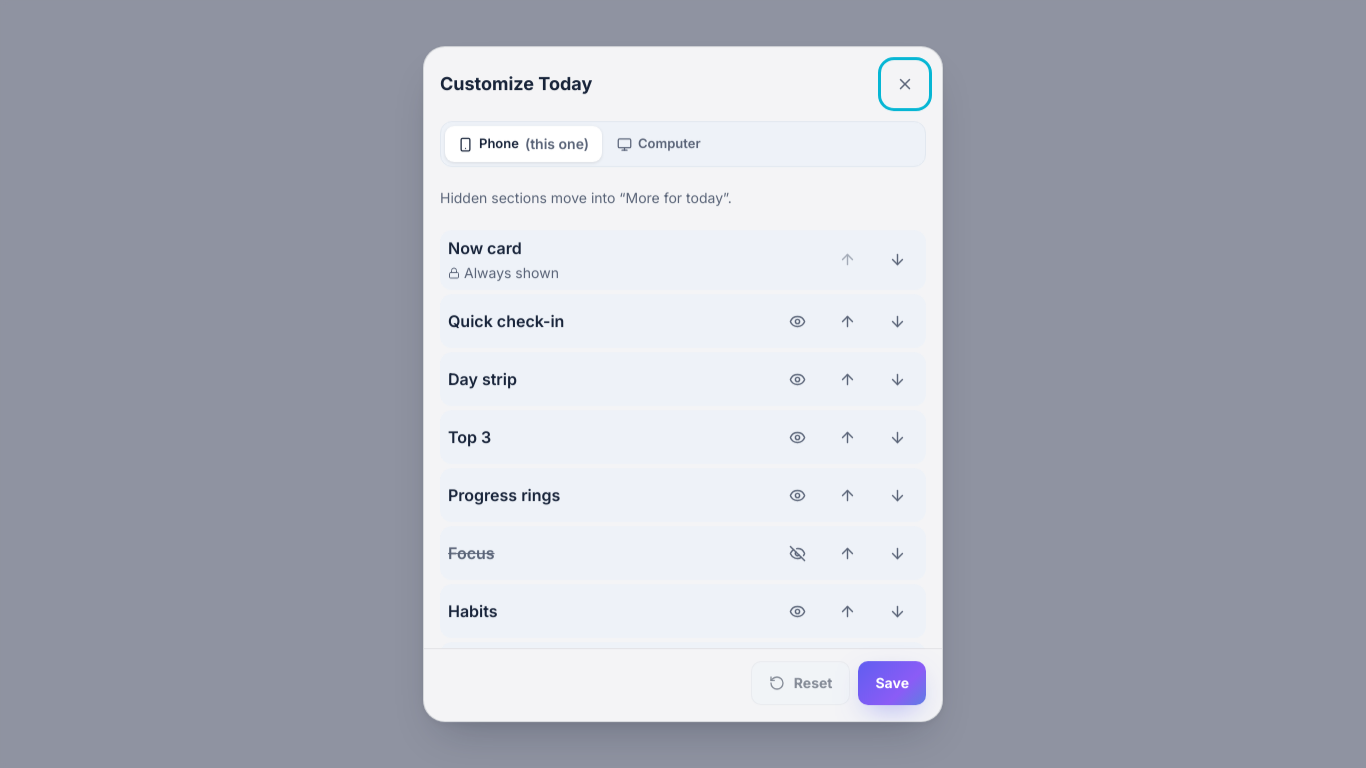
Test: the focus section in Customize Today › is listed but hidden until the user shows it
The image size is (1366, 768).
Expected: the button "Reset" is disabled, [751,661,850,705]
Click the button named "Show Focus" at (797, 553), box [776,532,818,574]
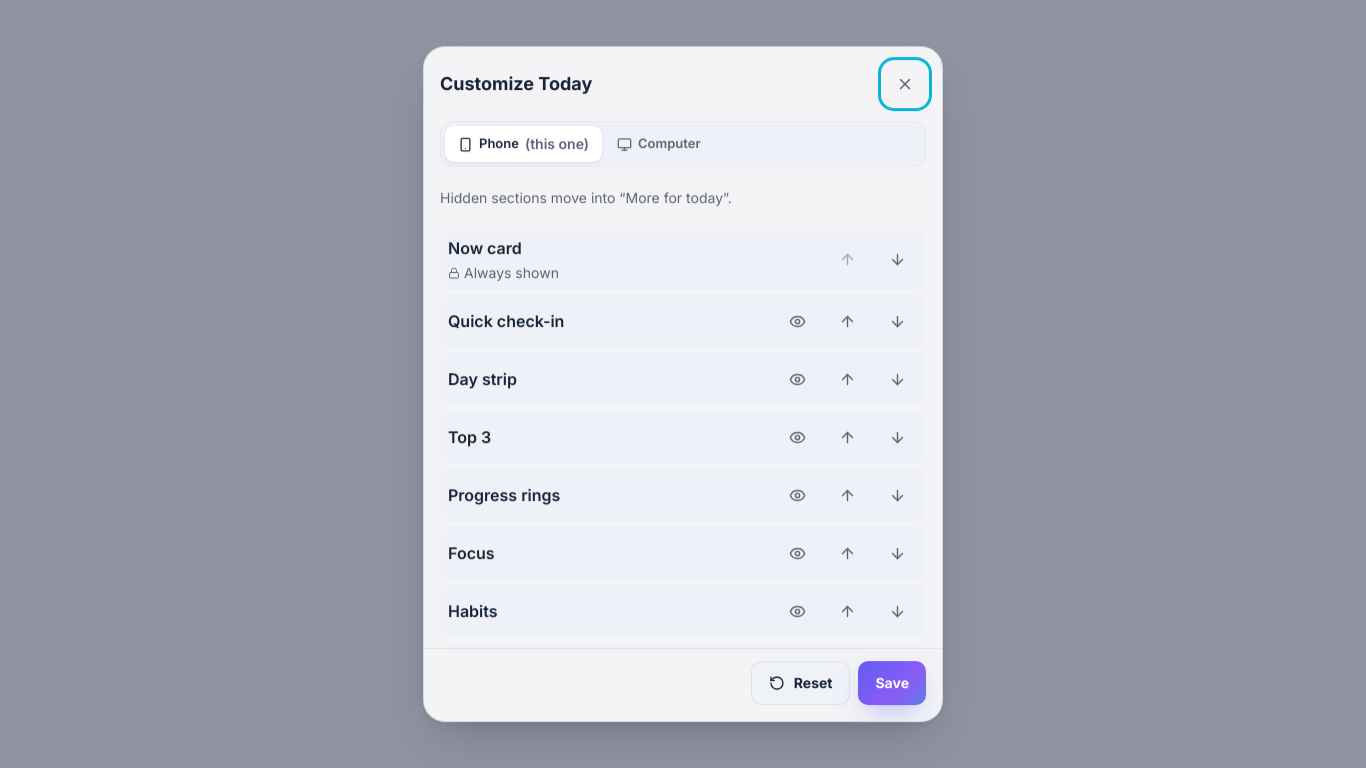
Result: the button "Reset" is enabled at [751,661,850,705]
